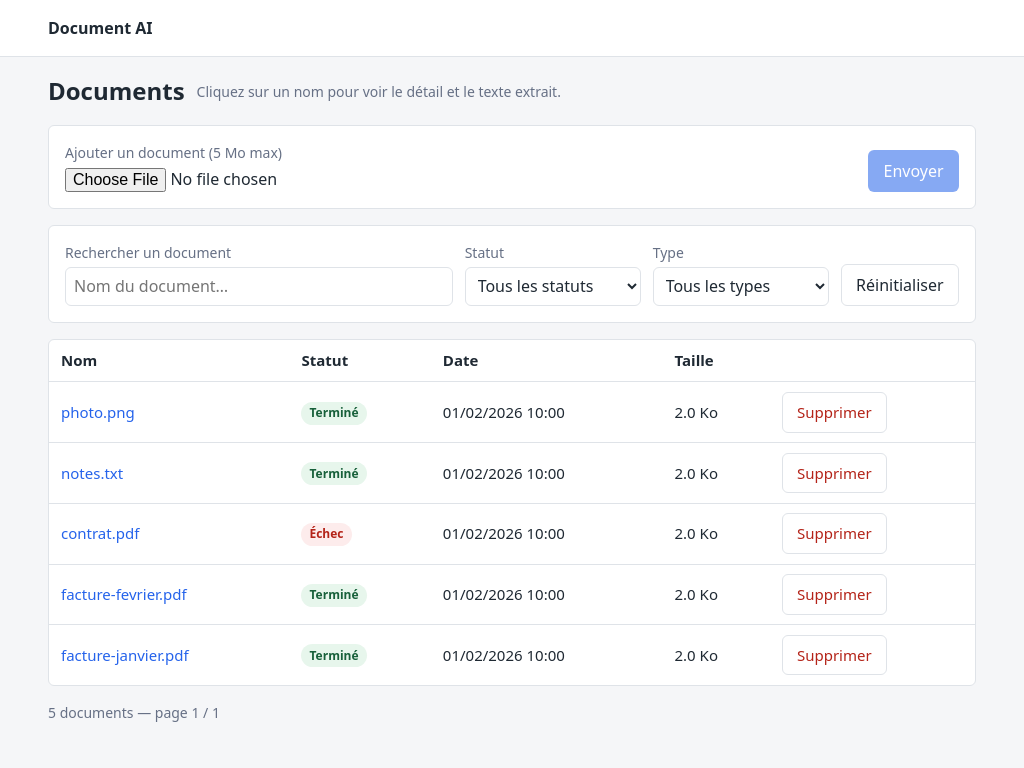
Test: Recherche et filtres de la liste des documents › filtre par type MIME
The width and height of the screenshot is (1024, 768).
Select "Texte" in the dropdown with id "document-mime-type" at coordinates (741, 287), box [653,267,829,306]
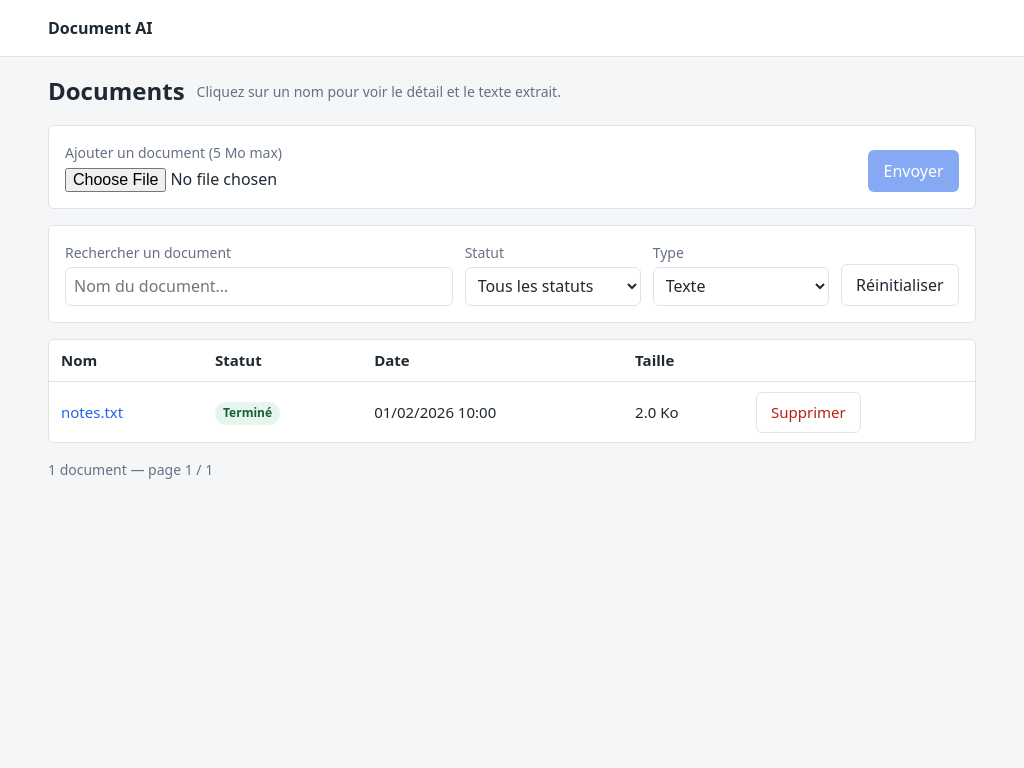
Expected: the text "notes.txt" is shown, [49,382,203,442]
Select "PNG" in the dropdown with id "document-mime-type" at coordinates (741, 287), box [653,267,829,306]
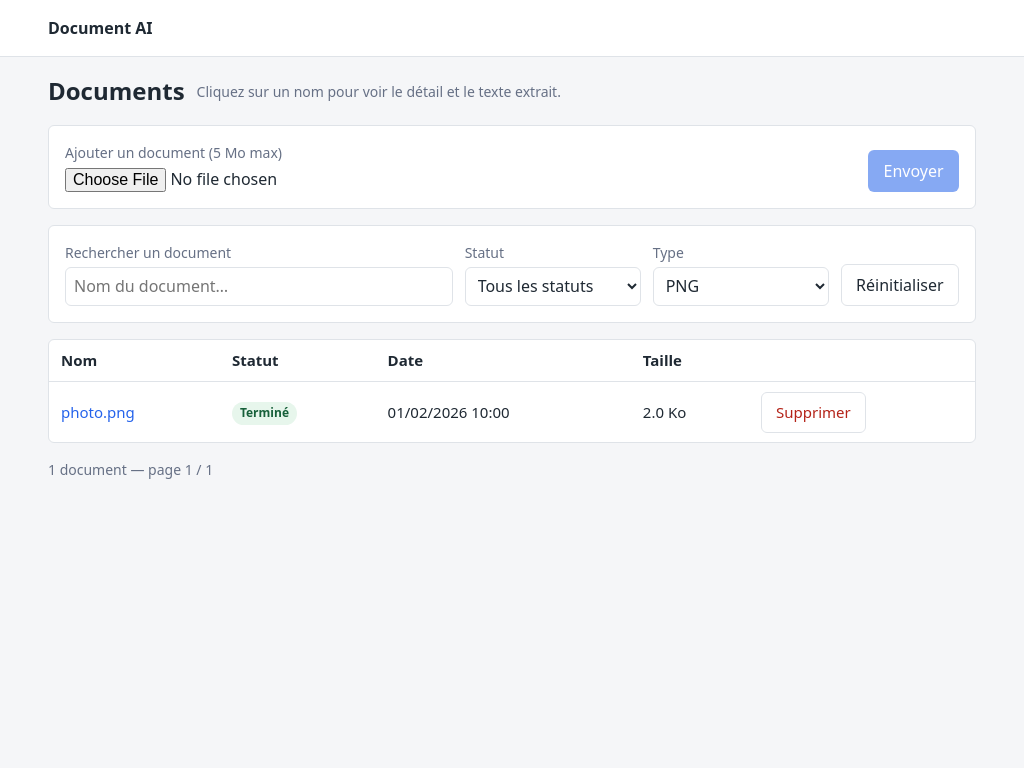
Expected: the text "photo.png" is shown, [49,382,220,442]
